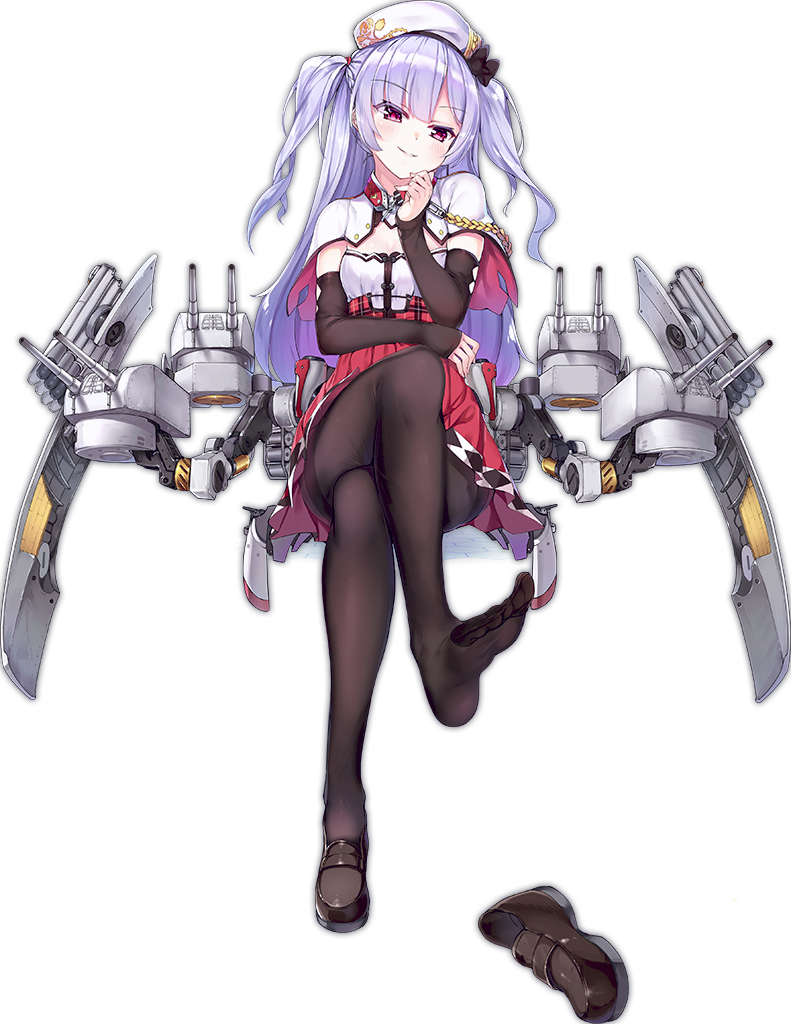person: (191, 27, 583, 745)
